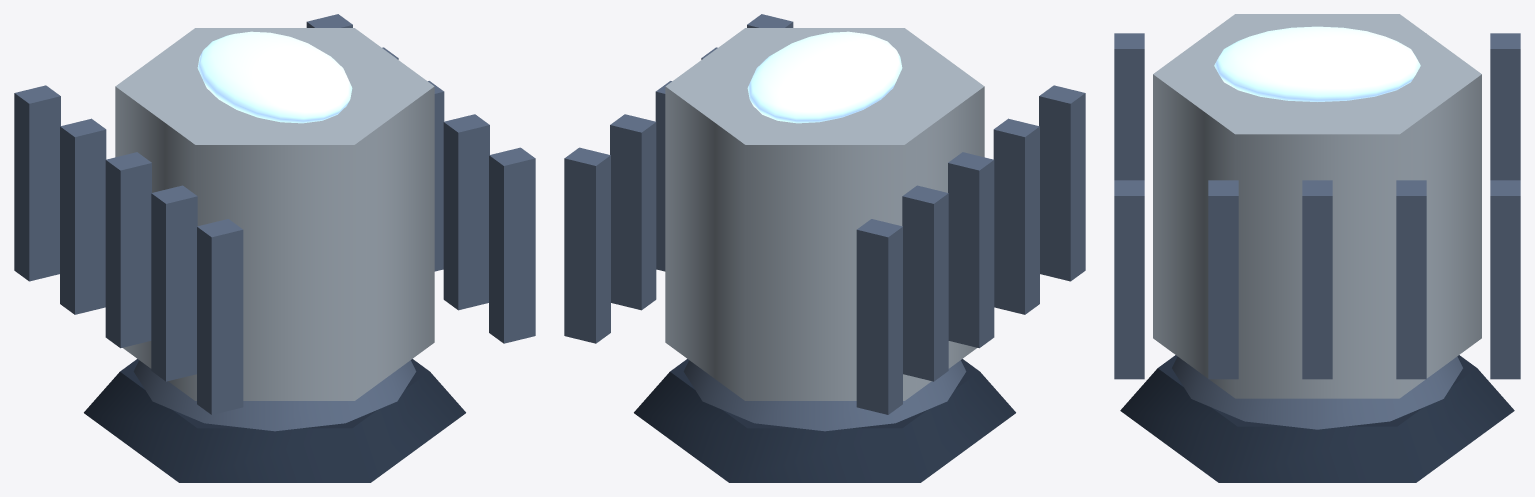
Rendered from cryogenic_hydrocarbon--power_unit.glb.
3 views of the same model, side by side, from view 1: azimuth 30°, elevation 25°; view 2: azimuth 150°, elevation 25°; view 3: azimuth 270°, elevation 25° (orthographic). The views are drawn at different scales.
Visible parts, largest first — view 1: faceted_module_housing_3, mount_adapter_1, power_status_14, cooling_fin_13, cooling_fin_6, cooling_fin_8, cooling_fin_4, cooling_fin_7, cooling_fin_5, cooling_fin_12, rotation_bearing_2, cooling_fin_11; view 2: faceted_module_housing_3, mount_adapter_1, power_status_14, cooling_fin_9, cooling_fin_4, cooling_fin_6, cooling_fin_5, cooling_fin_8, cooling_fin_7, cooling_fin_10, rotation_bearing_2, cooling_fin_11; view 3: faceted_module_housing_3, mount_adapter_1, power_status_14, rotation_bearing_2, cooling_fin_9, cooling_fin_10, cooling_fin_11, cooling_fin_12, cooling_fin_13, cooling_fin_4, cooling_fin_8.
Boxes of the visible parts, <box> form: faceted_module_housing_3: <box>115,28,434,400</box>; mount_adapter_1: <box>84,359,465,482</box>; power_status_14: <box>197,31,352,123</box>; cooling_fin_13: <box>489,147,535,343</box>; cooling_fin_6: <box>105,152,151,348</box>; cooling_fin_8: <box>197,219,243,414</box>; cooling_fin_4: <box>14,85,60,281</box>; cooling_fin_7: <box>151,185,197,381</box>; cooling_fin_5: <box>60,118,106,314</box>; cooling_fin_12: <box>443,114,489,310</box>; rotation_bearing_2: <box>133,360,416,431</box>; cooling_fin_11: <box>428,81,444,271</box>; faceted_module_housing_3: <box>665,28,984,400</box>; mount_adapter_1: <box>634,359,1015,482</box>; power_status_14: <box>747,31,902,123</box>; cooling_fin_9: <box>564,147,610,343</box>; cooling_fin_4: <box>856,219,902,414</box>; cooling_fin_6: <box>948,152,994,348</box>; cooling_fin_5: <box>902,185,948,381</box>; cooling_fin_8: <box>1039,85,1085,281</box>; cooling_fin_7: <box>993,118,1039,314</box>; cooling_fin_10: <box>610,114,656,310</box>; rotation_bearing_2: <box>683,360,966,431</box>; cooling_fin_11: <box>655,81,671,271</box>; faceted_module_housing_3: <box>1153,14,1481,398</box>; mount_adapter_1: <box>1120,355,1514,482</box>; power_status_14: <box>1214,26,1420,101</box>; rotation_bearing_2: <box>1172,356,1462,429</box>; cooling_fin_9: <box>1490,180,1520,379</box>; cooling_fin_10: <box>1396,180,1426,379</box>; cooling_fin_11: <box>1302,180,1332,379</box>; cooling_fin_12: <box>1208,180,1238,379</box>; cooling_fin_13: <box>1114,180,1144,379</box>; cooling_fin_4: <box>1490,33,1520,180</box>; cooling_fin_8: <box>1114,33,1144,180</box>.
Size of the model in its own units: 9.84 by 10.44 by 10.38.
